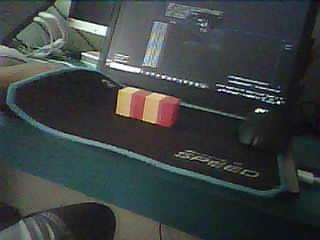lego: (115, 86, 182, 127)
